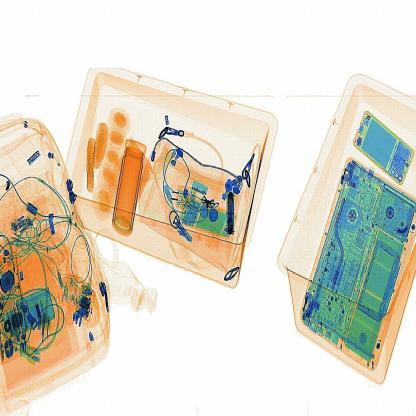scissors: (224, 192, 236, 236)
